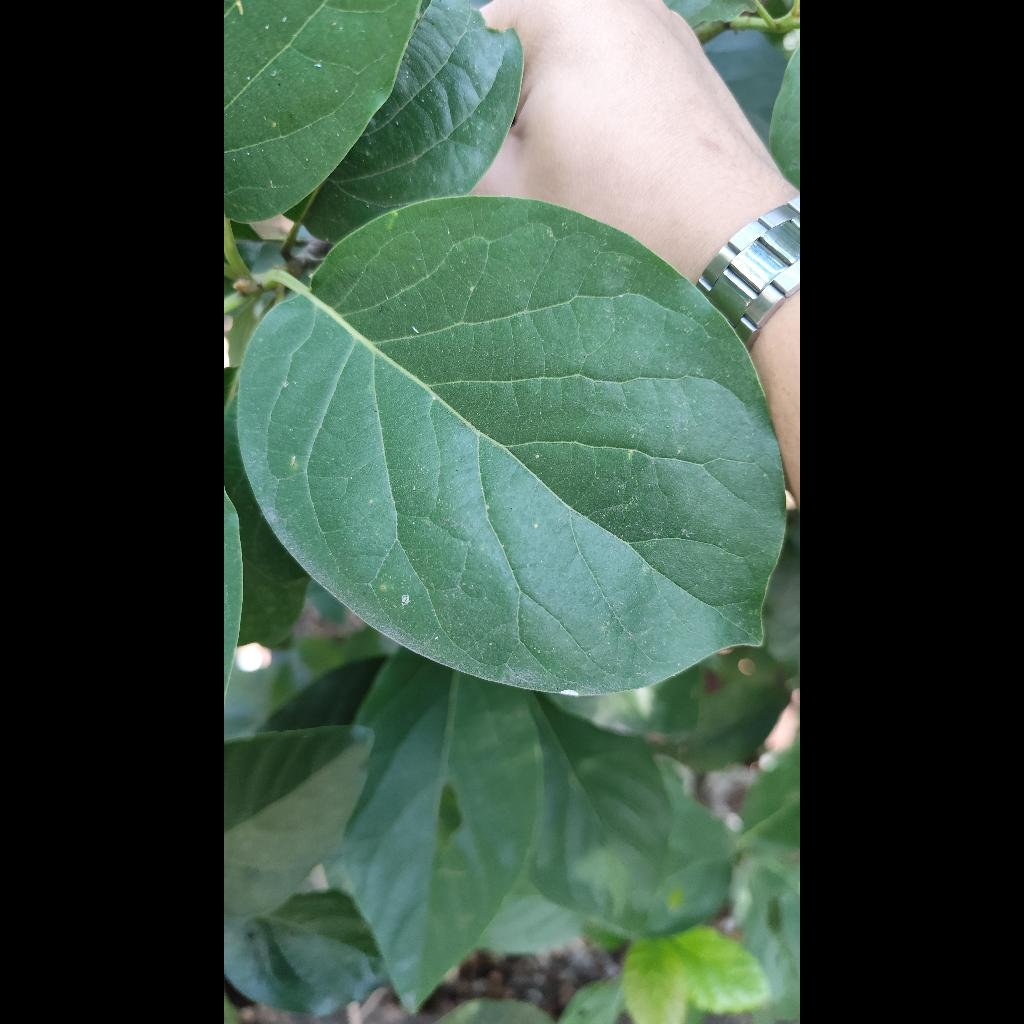Healthy: (239, 197, 784, 693)
